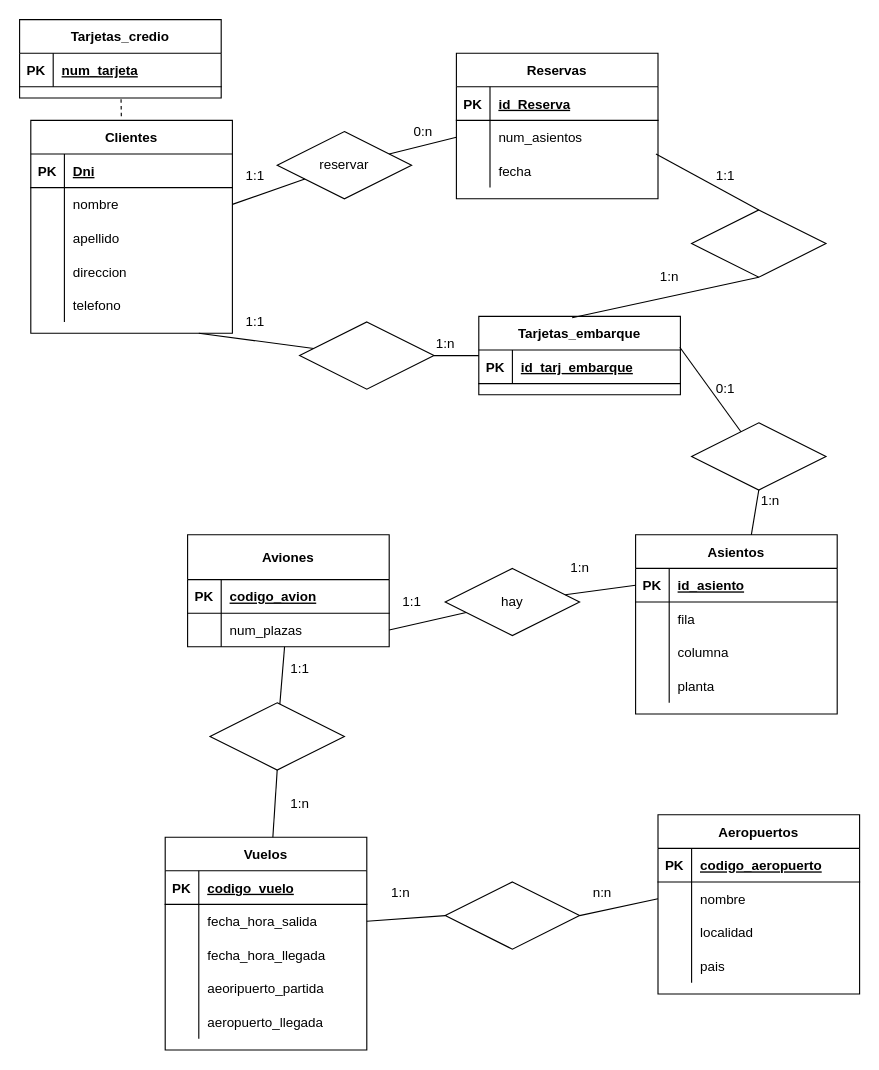
Image size: 879x1070. Some labels were removed from this diagram. Each missing label, with the centre of its shape:
asignar: point 758,456
generar: point 758,243
obtener: point 366,355
realizar: point 276,736
tiene: point 512,915
